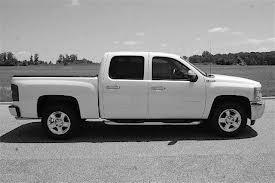car: (9, 53, 266, 139)
